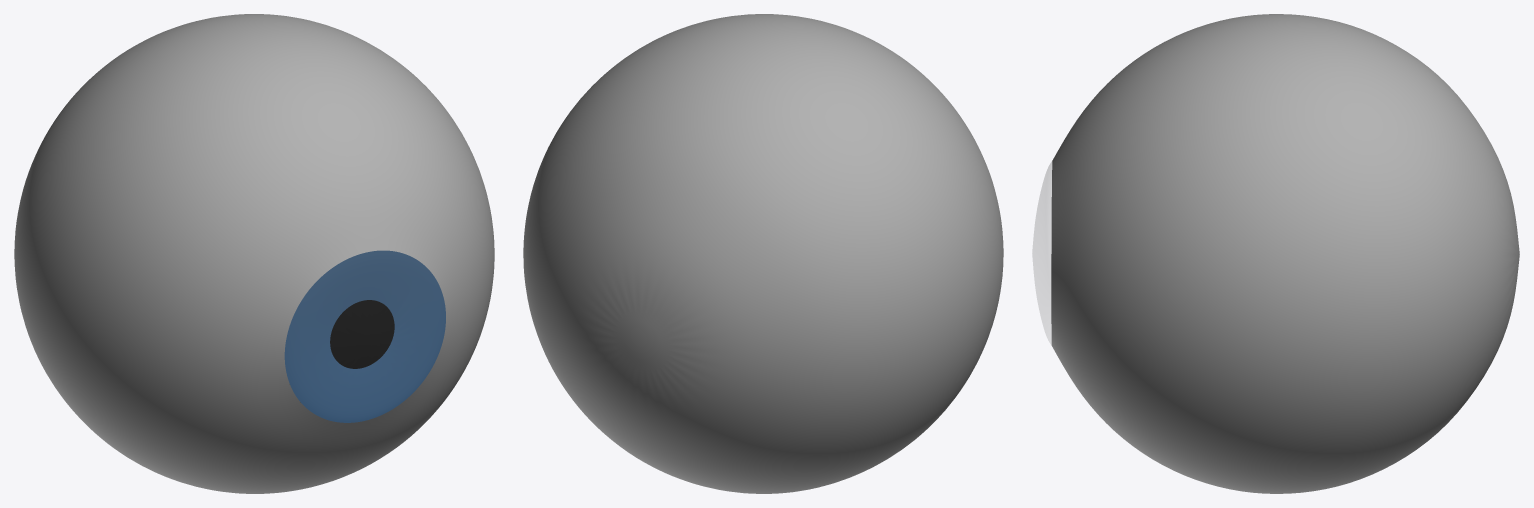
The model's file is eyeball.dae.
3 renders of one model, left to right at view 1: azimuth 30°, elevation 25°; view 2: azimuth 150°, elevation 25°; view 3: azimuth 270°, elevation 25°, orthographic.
Parts seen in each view (by area): view 1: eyeball_1; view 2: eyeball_1; view 3: eyeball_1.
Boxes of the visible parts, x1=… form: eyeball_1: x1=14, y1=14, x2=494, y2=493; eyeball_1: x1=523, y1=14, x2=1003, y2=493; eyeball_1: x1=1032, y1=14, x2=1519, y2=493.
Size of the model in its own units: 3.86 by 3.92 by 3.86.
